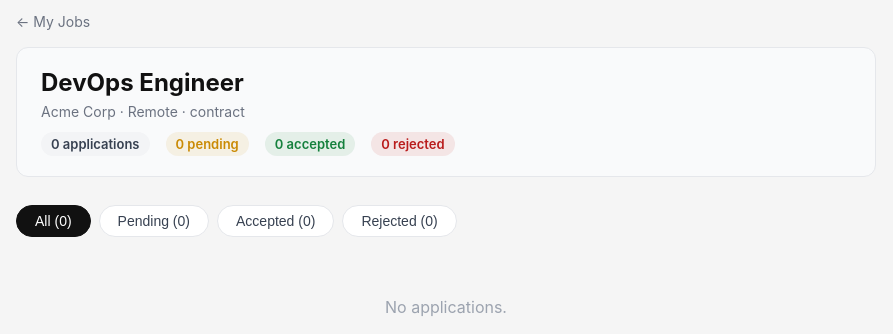
Test: JobApplicationsPage › shows empty state when filtering with no results
Check: the heading "DevOps Engineer" is shown, box [41,68,244,97]
Click the button "Pending (0)". click: (154,221)
box: [99,205,209,237]
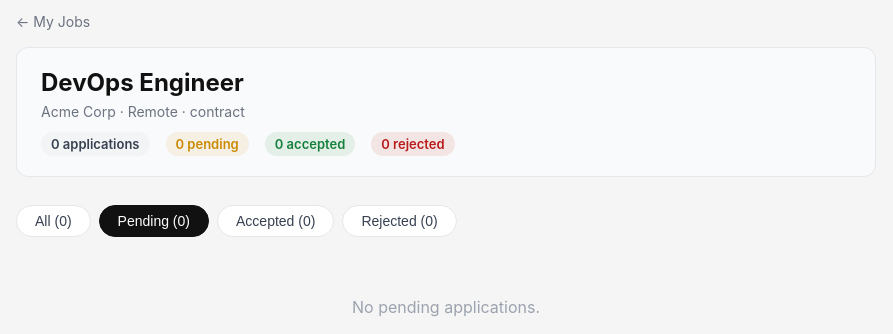
Check: the text "No pending applications." is shown, box [352,297,540,317]
